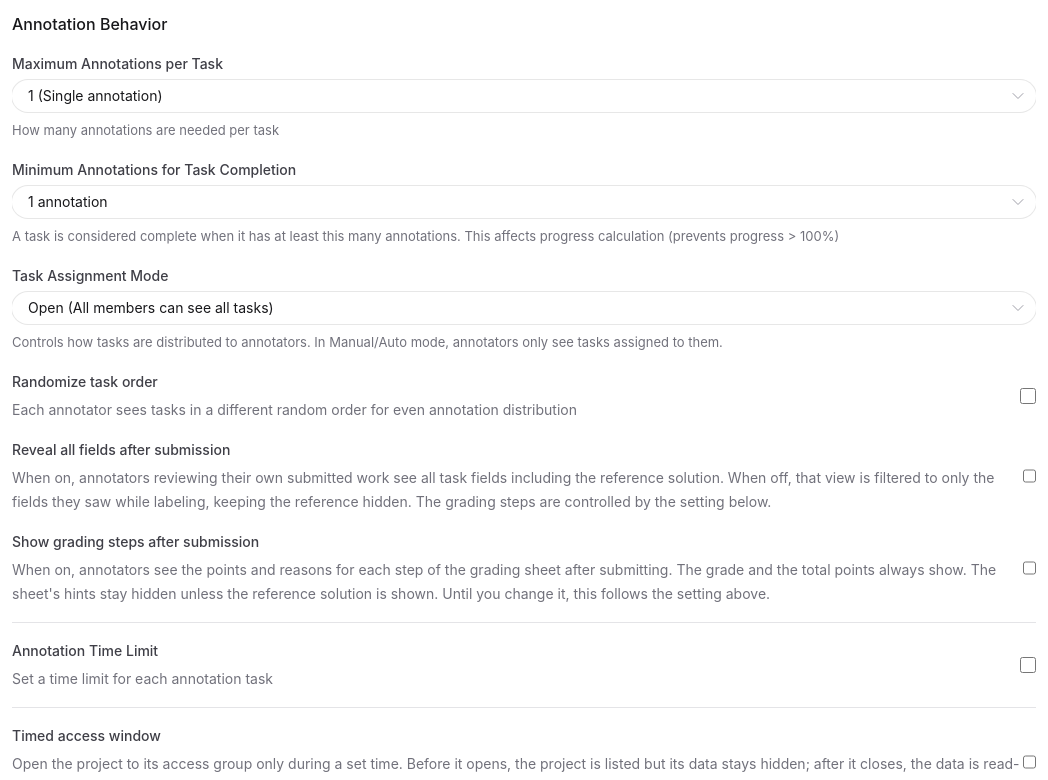
Test: AdvancedSettingsCard › Annotation timer › enabling the timer reveals the minutes input + strict toggle and seeds 1800s
Click the 4th checkbox at (1028, 665), box x1=1020 y1=657 x2=1036 y2=673
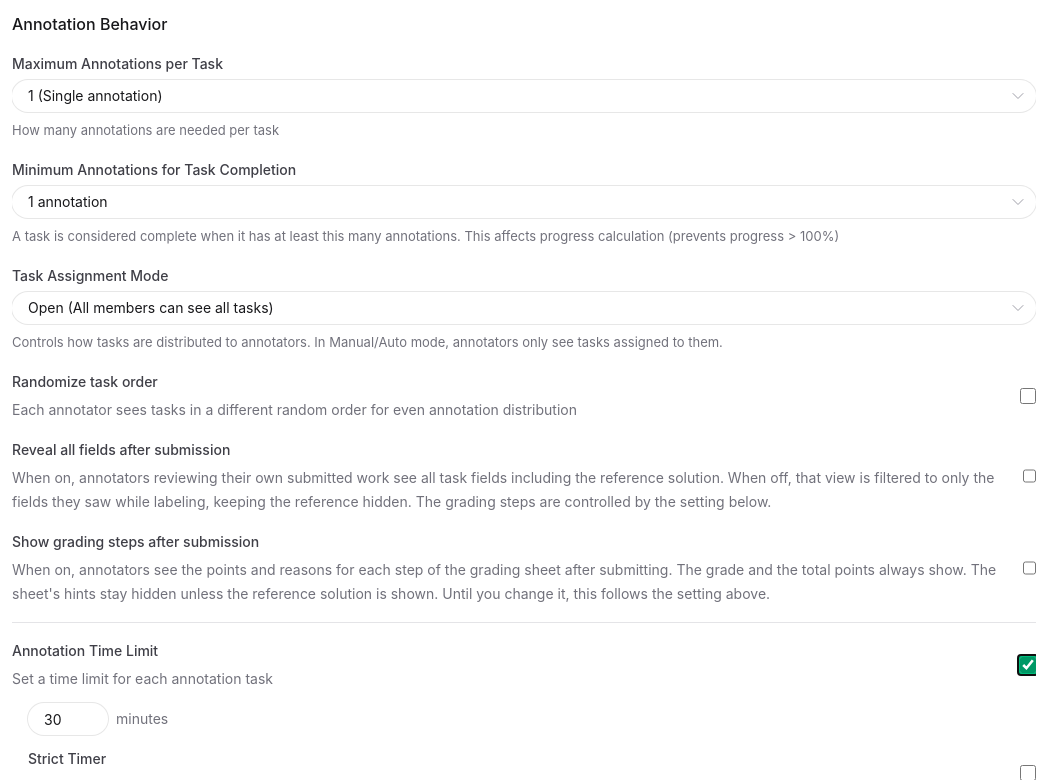
Expected: the number field holds "30", x1=28 y1=703 x2=108 y2=735
Expected: the text "Strict Timer" is shown, x1=28 y1=750 x2=106 y2=767
